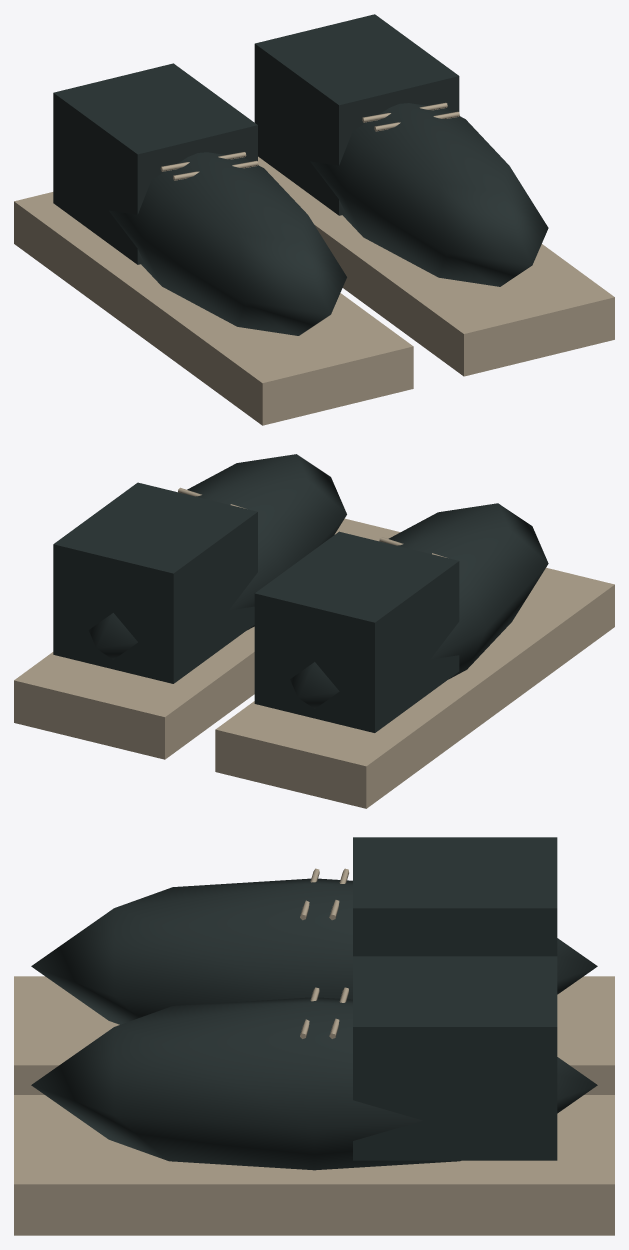
File: shoes-lightweight-8b410baa98.glb
3 renders of one model, top to bottom at view 1: azimuth 30°, elevation 25°; view 2: azimuth 150°, elevation 25°; view 3: azimuth 270°, elevation 25°, orthographic. The views are drawn at different scales.
Parts seen in each view (by area): view 1: dark, sole; view 2: dark, sole; view 3: dark, sole.
Part boxes in pixels (x1,y1,x2,y2): dark: (53, 14, 548, 335); sole: (14, 102, 614, 425); dark: (53, 454, 548, 732); sole: (14, 487, 614, 808); dark: (31, 837, 597, 1170); sole: (14, 868, 614, 1235).
Bounding box in the file's own units: 0.217 × 0.097 × 0.265.
